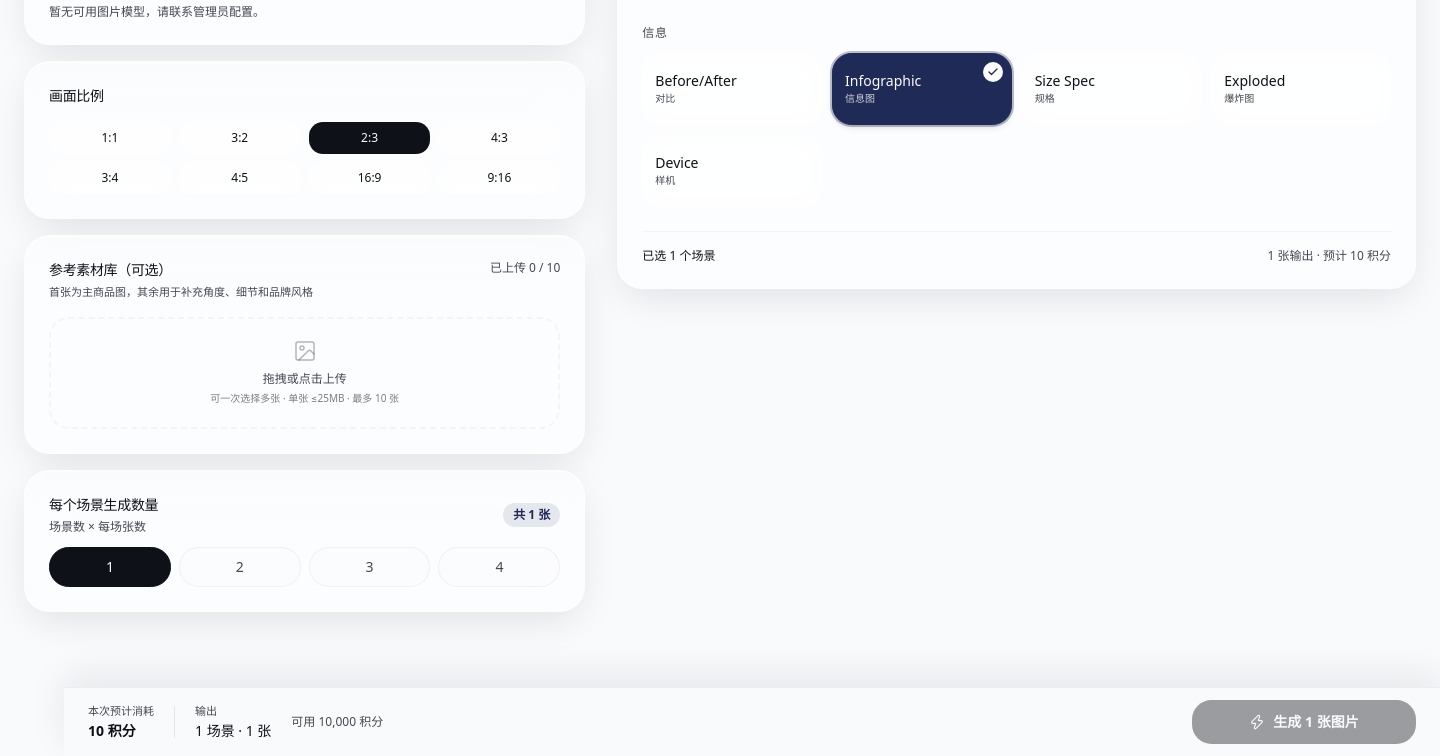
EcomImagesPage interactions › updates the total image count from the quantity selector
(page scrolled)
Click the button "3".
click(370, 566)  # box [309,546,430,586]
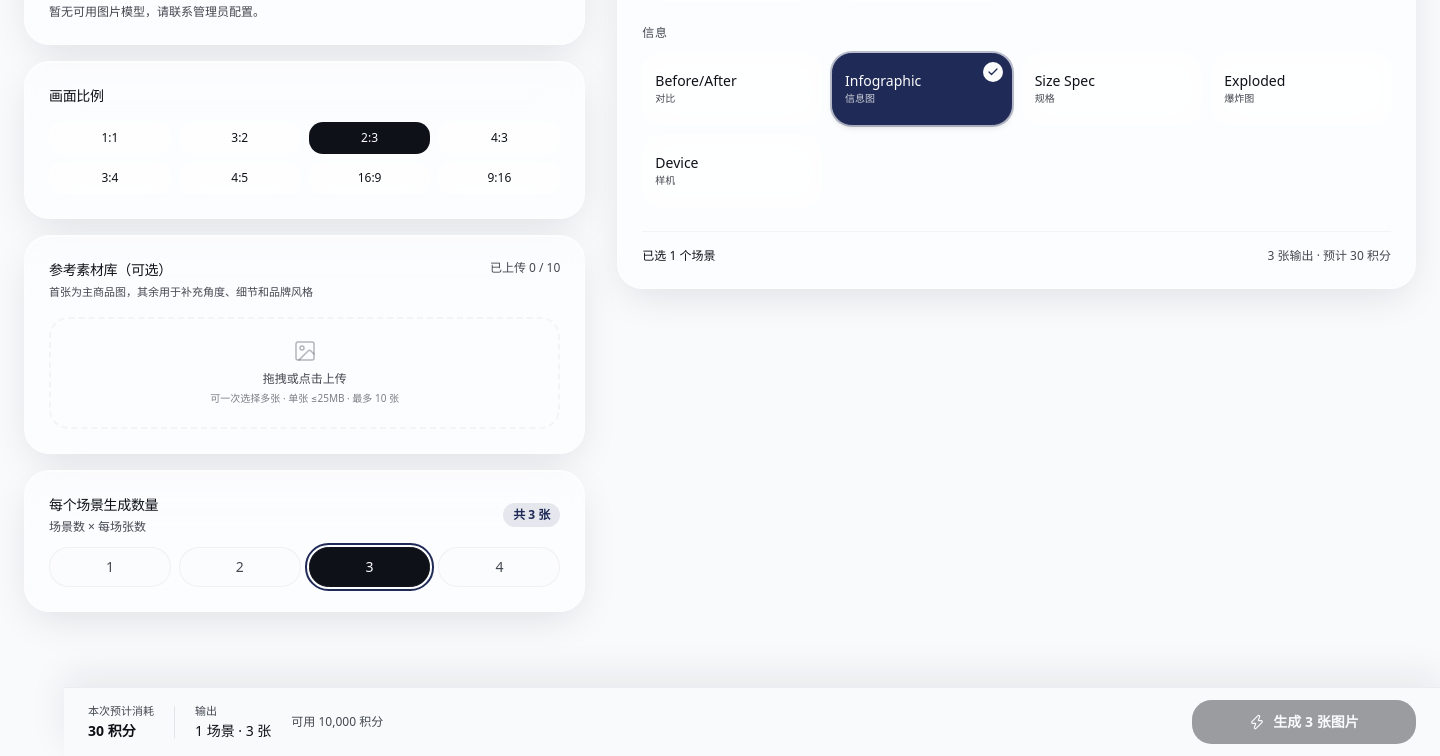
Check: the text "共 3 张" is shown, box [503,502,560,526]
Check: the button "生成 3 张图片" is shown, box [1192,700,1416,744]
